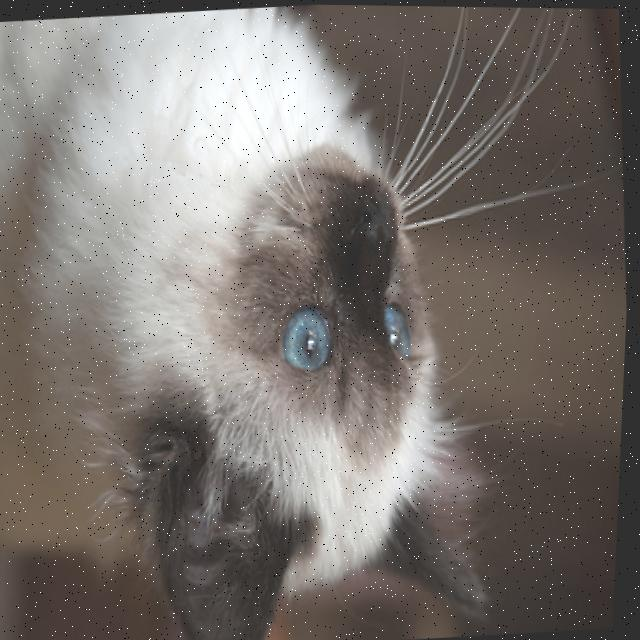Birman: (0, 0, 522, 640)
